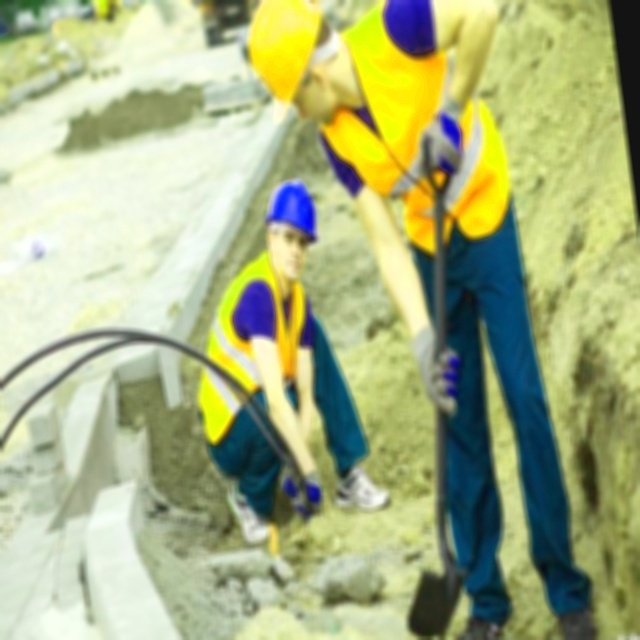Con_Casco: (242, 0, 343, 133), (259, 176, 325, 291)
